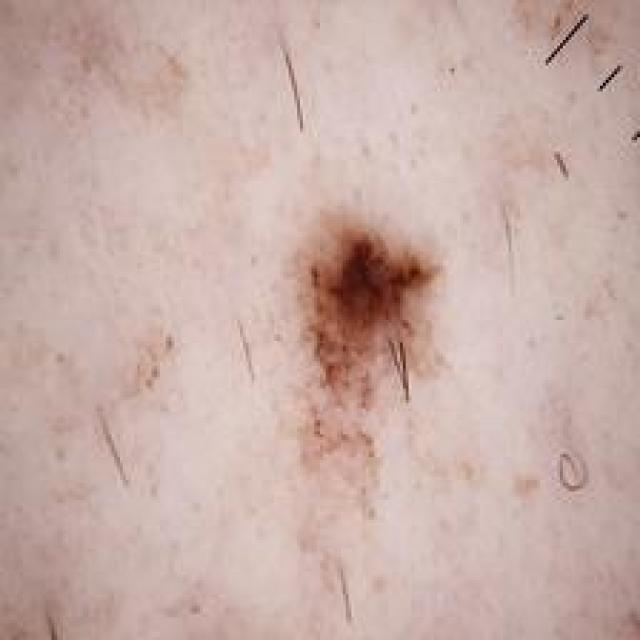Cancer: (296, 218, 448, 430)
